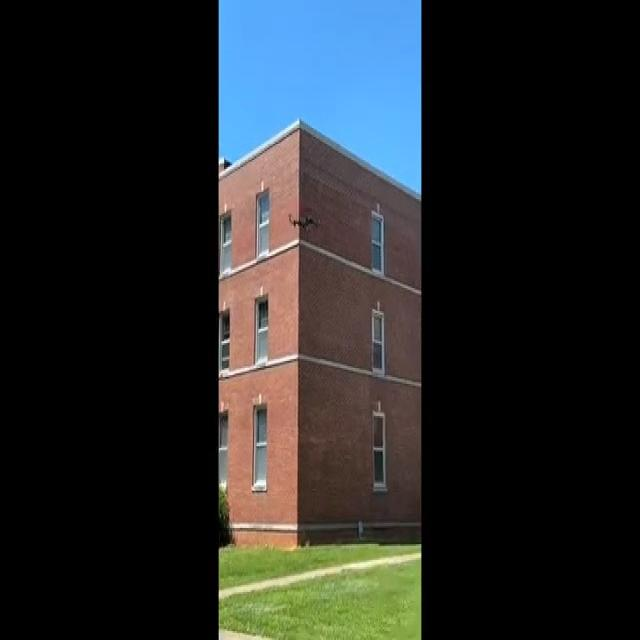drone: (284, 206, 322, 238)
